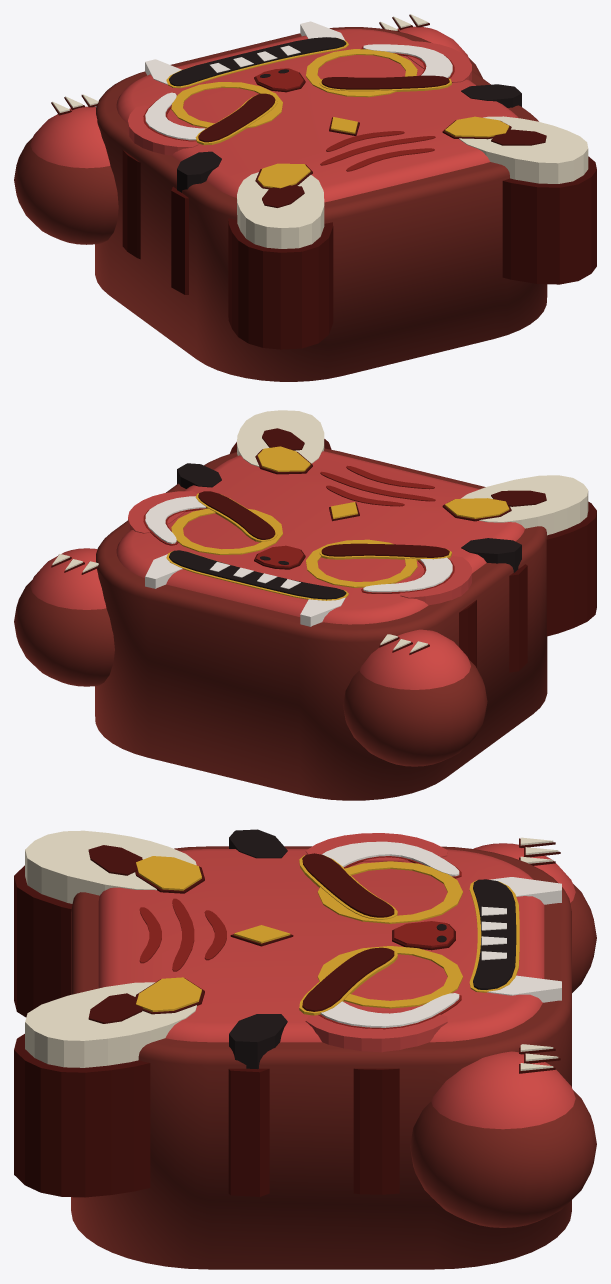
The model's file is body_oni_vermelho.fbx.
The picture shows the model from 3 angles, top to bottom: view 1: azimuth 30°, elevation 25°; view 2: azimuth 150°, elevation 25°; view 3: azimuth 270°, elevation 25°; orthographic projection. The views are drawn at different scales.
Visible parts, largest first — view 1: body_oni_vermelho_corpo, body_oni_vermelho_mao_esq, body_oni_vermelho_mao; view 2: body_oni_vermelho_corpo, body_oni_vermelho_mao_esq, body_oni_vermelho_mao; view 3: body_oni_vermelho_corpo, body_oni_vermelho_mao, body_oni_vermelho_mao_esq.
Boxes of the visible parts, x1,y1,x2,y2 form: body_oni_vermelho_corpo: (95,21,596,381); body_oni_vermelho_mao_esq: (14,94,118,244); body_oni_vermelho_mao: (379,14,482,78); body_oni_vermelho_corpo: (95,410,596,800); body_oni_vermelho_mao_esq: (343,629,487,766); body_oni_vermelho_mao: (14,548,114,686); body_oni_vermelho_corpo: (14,829,571,1269); body_oni_vermelho_mao: (410,1044,596,1227); body_oni_vermelho_mao_esq: (473,837,596,992).
Size of the model in its own units: 5.4 by 2.04 by 4.66.
1 material, 1 textured.
